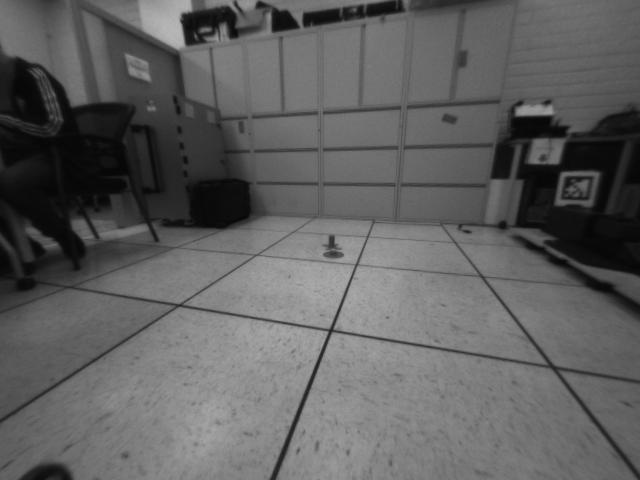X: (324, 234, 341, 250)
